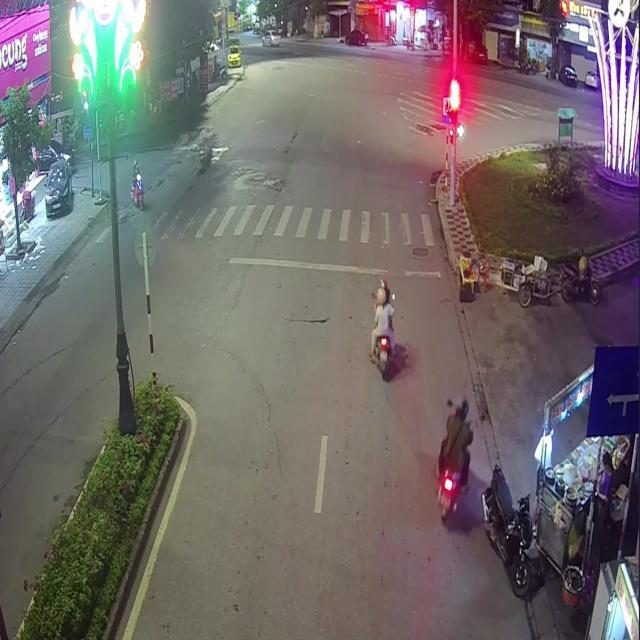motobike: (436, 398, 472, 520), (369, 280, 394, 375)
red_light: (449, 77, 460, 123)
stop_line: (228, 256, 440, 277)
